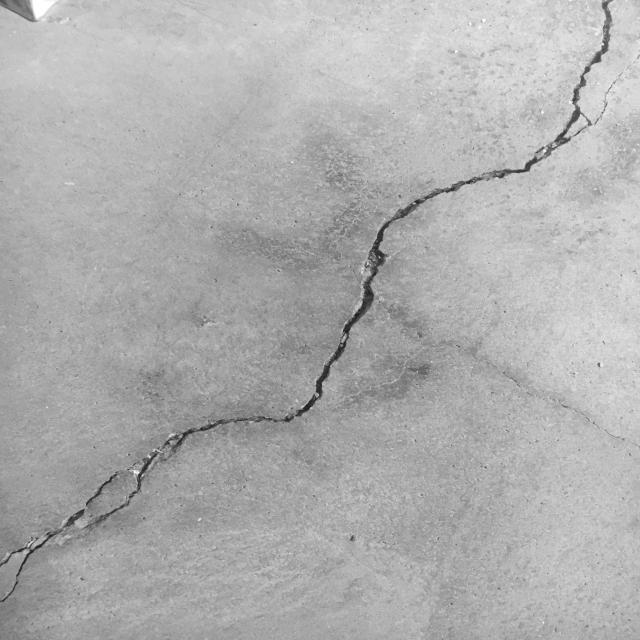SurfaceCrack: (1, 0, 640, 634)
